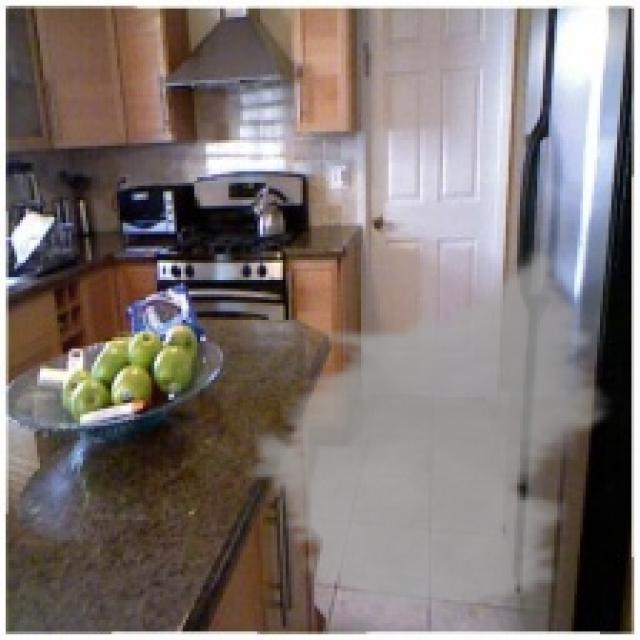Smoke: (240, 248, 620, 618)
